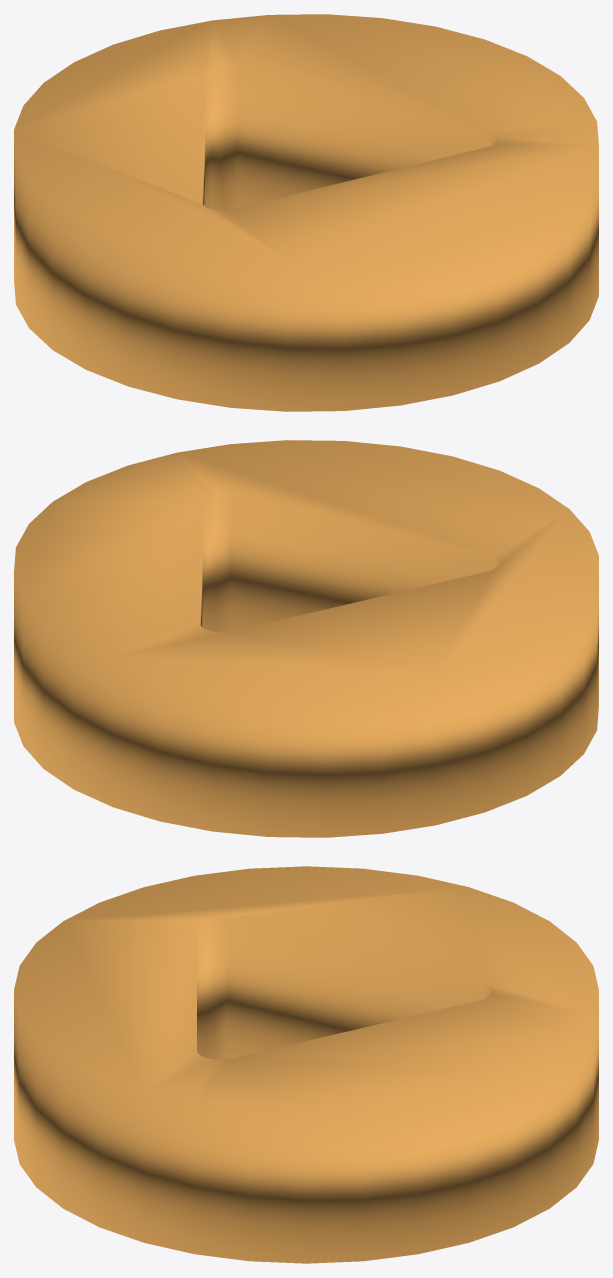
Rendered from smallCirclewithTriangle.glb.
3 renders of one model, top to bottom at view 1: azimuth 30°, elevation 25°; view 2: azimuth 150°, elevation 25°; view 3: azimuth 270°, elevation 25°, orthographic.
Parts seen in each view (by area): view 1: Cylinder.001; view 2: Cylinder.001; view 3: Cylinder.001.
Part boxes in pixels (x1,y1,x2,y2): Cylinder.001: [14, 14, 598, 411]; Cylinder.001: [14, 440, 598, 837]; Cylinder.001: [14, 866, 598, 1263].
Bounding box in the file's own units: 0.86 × 0.2435 × 0.86.
